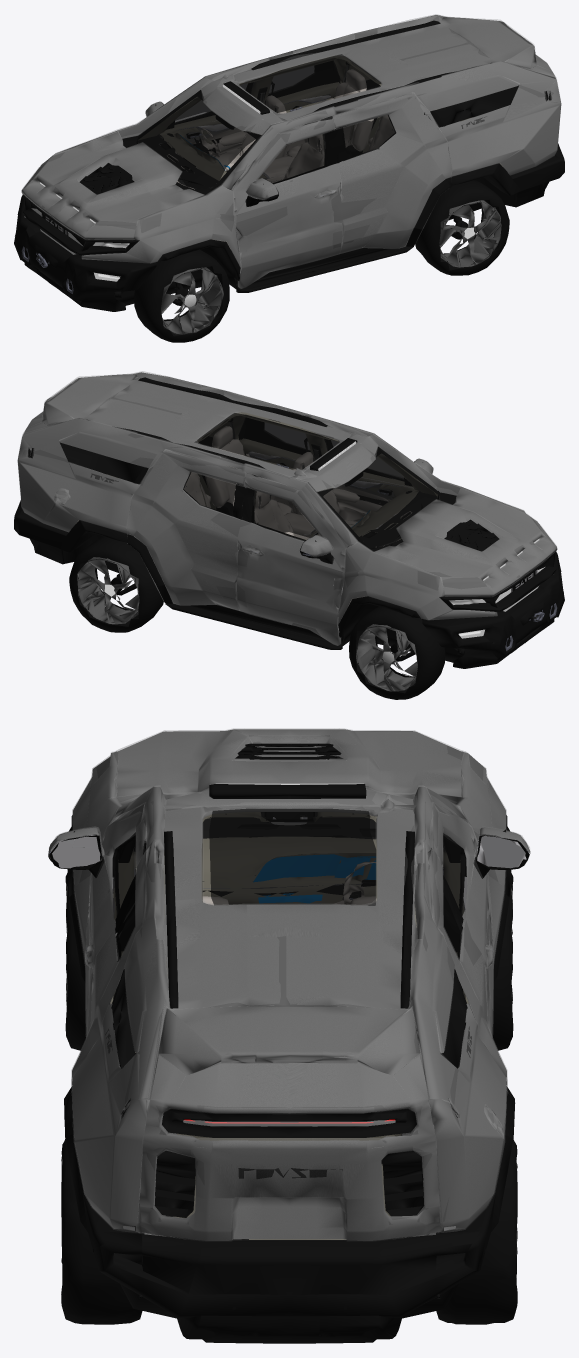
File: car-suv.glb
3 renders of one model, top to bottom at view 1: azimuth 30°, elevation 25°; view 2: azimuth 150°, elevation 25°; view 3: azimuth 270°, elevation 25°, orthographic. The views are drawn at different scales.
Parts seen in each view (by area): view 1: Meshpart123Mtl, Meshpart124Mtl, Meshpart1Mtl, Meshpart6Mtl, Neumatico1Mtl, Rin1Mtl, Meshpart80Mtl, Meshpart16Mtl, Meshpart14Mtl, Meshpart98Mtl, Meshpart2Mtl; view 2: Meshpart123Mtl, Meshpart124Mtl, Meshpart1Mtl, Meshpart6Mtl, Neumatico1Mtl, Rin1Mtl, Meshpart80Mtl, Meshpart16Mtl, Meshpart14Mtl, Meshpart98Mtl, Meshpart2Mtl; view 3: Meshpart123Mtl, Meshpart124Mtl, Meshpart1Mtl, Meshpart6Mtl, Neumatico1Mtl, Meshpart16Mtl, 1Mtl, Meshpart47Mtl, Meshpart98Mtl, Meshpart14Mtl, Meshpart2Mtl, Meshpart80Mtl.
Part boxes in pixels (bbox=[...]): Meshpart123Mtl: bbox=[21, 15, 561, 288]; Meshpart124Mtl: bbox=[21, 14, 560, 288]; Meshpart1Mtl: bbox=[14, 20, 564, 311]; Meshpart6Mtl: bbox=[136, 54, 395, 188]; Neumatico1Mtl: bbox=[134, 180, 509, 342]; Rin1Mtl: bbox=[161, 200, 501, 334]; Meshpart80Mtl: bbox=[167, 69, 394, 248]; Meshpart16Mtl: bbox=[138, 55, 502, 180]; Meshpart14Mtl: bbox=[187, 106, 430, 206]; Meshpart98Mtl: bbox=[137, 135, 218, 189]; Meshpart2Mtl: bbox=[40, 84, 260, 281]; Meshpart123Mtl: bbox=[17, 372, 557, 645]; Meshpart124Mtl: bbox=[18, 371, 556, 645]; Meshpart1Mtl: bbox=[14, 377, 564, 668]; Meshpart6Mtl: bbox=[183, 413, 437, 549]; Neumatico1Mtl: bbox=[69, 537, 445, 699]; Rin1Mtl: bbox=[77, 557, 417, 691]; Meshpart80Mtl: bbox=[184, 426, 411, 605]; Meshpart16Mtl: bbox=[76, 412, 439, 540]; Meshpart14Mtl: bbox=[111, 417, 422, 661]; Meshpart98Mtl: bbox=[360, 491, 440, 547]; Meshpart2Mtl: bbox=[318, 441, 539, 638]; Meshpart123Mtl: bbox=[48, 729, 530, 1240]; Meshpart124Mtl: bbox=[49, 728, 529, 1241]; Meshpart1Mtl: bbox=[64, 743, 529, 1343]; Meshpart6Mtl: bbox=[112, 808, 465, 998]; Neumatico1Mtl: bbox=[61, 873, 517, 1324]; Meshpart16Mtl: bbox=[110, 812, 468, 1239]; 1Mtl: bbox=[50, 817, 526, 1230]; Meshpart47Mtl: bbox=[253, 854, 375, 903]; Meshpart98Mtl: bbox=[202, 812, 376, 839]; Meshpart14Mtl: bbox=[49, 812, 466, 1029]; Meshpart2Mtl: bbox=[123, 783, 455, 1230]; Meshpart80Mtl: bbox=[110, 862, 376, 1003].
Bounding box in the file's own units: 24.36 × 8.79 × 10.31.
Materials: 25 (8 with a texture image).
